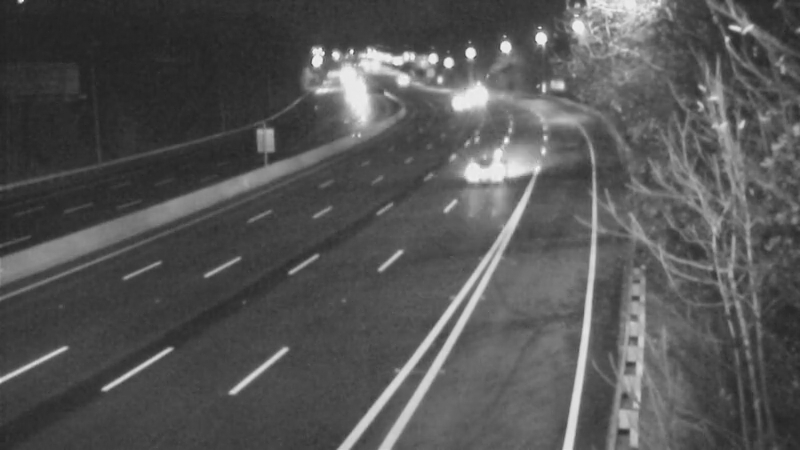vehicle: (441, 132, 521, 212), (378, 57, 428, 107), (451, 68, 501, 118), (432, 76, 482, 126)
